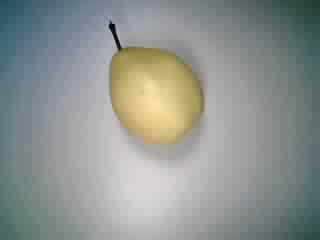pear: (89, 15, 212, 152)
